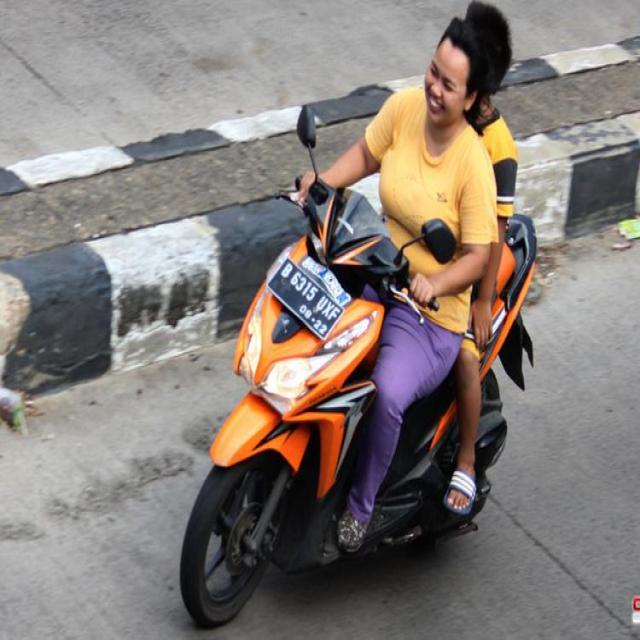Number Plate: (267, 256, 350, 338)
Rearview Mirror: (421, 218, 456, 263), (297, 105, 315, 148)
